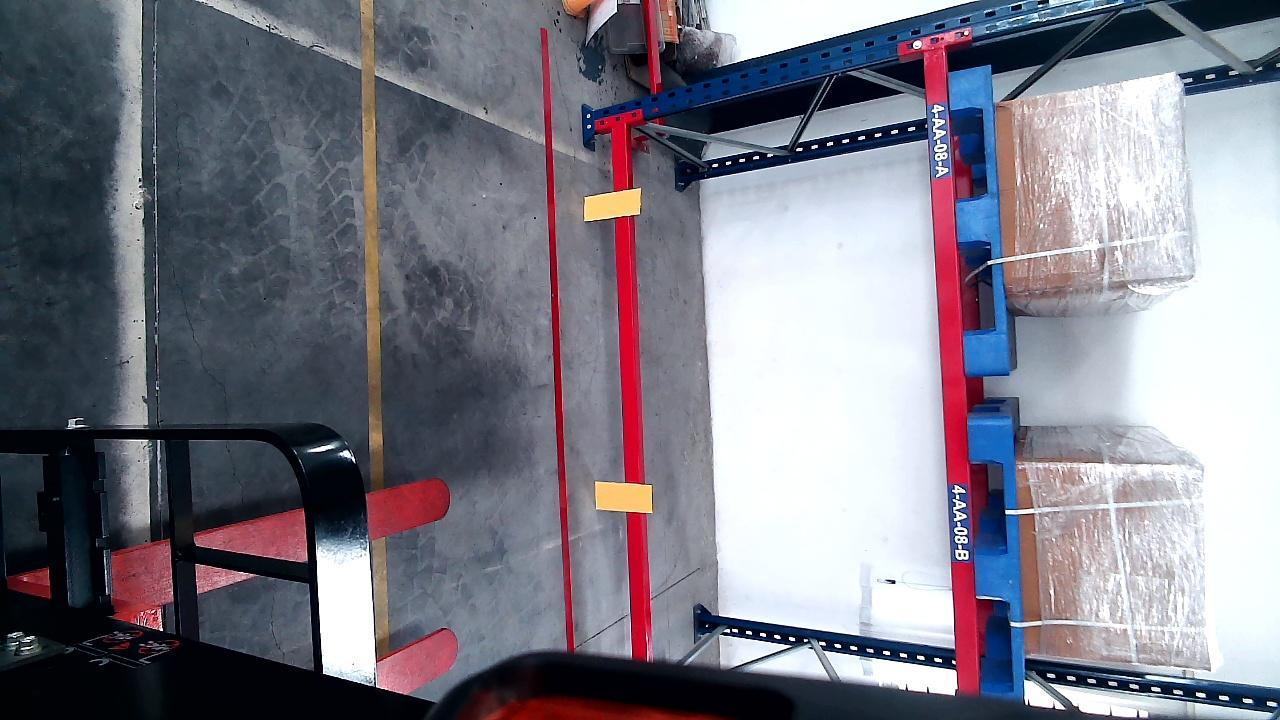red_line: (535, 28, 575, 651)
yellow_line: (360, 0, 387, 660)
